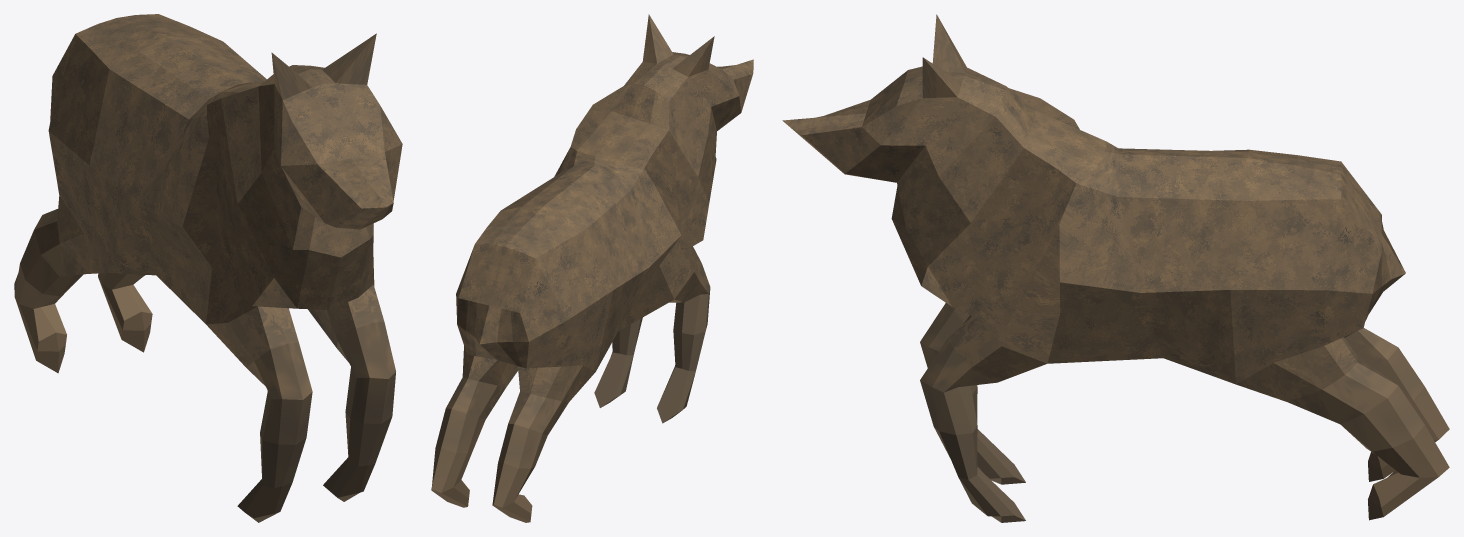
File: piesblend_000008.obj
3 views of the same model, side by side, from view 1: azimuth 30°, elevation 25°; view 2: azimuth 150°, elevation 25°; view 3: azimuth 270°, elevation 25° (orthographic). The views are drawn at different scales.
Visible parts, largest first — view 1: Cube; view 2: Cube; view 3: Cube.
Part boxes in pixels (x1,y1,x2,y2): Cube: (14,14,402,522); Cube: (431,14,753,522); Cube: (782,14,1449,522).
Bounding box in the file's own units: 2.56 × 7.05 × 9.25.
Materials: 1 (1 with a texture image).
